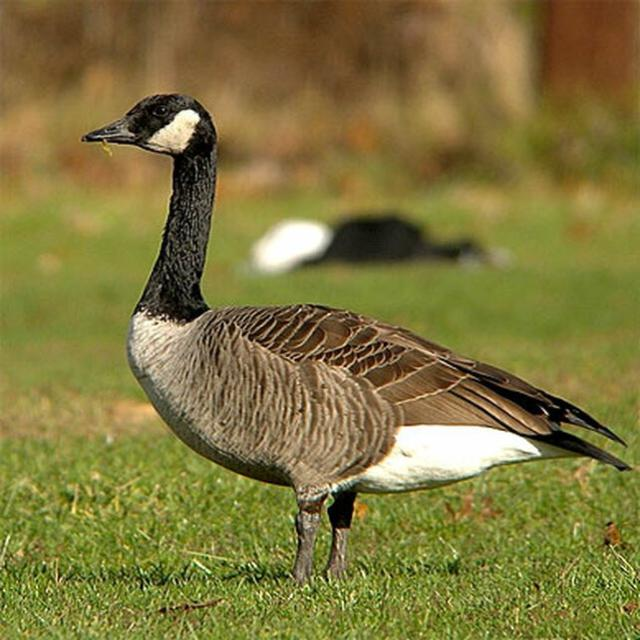Goose: (73, 92, 625, 563)
